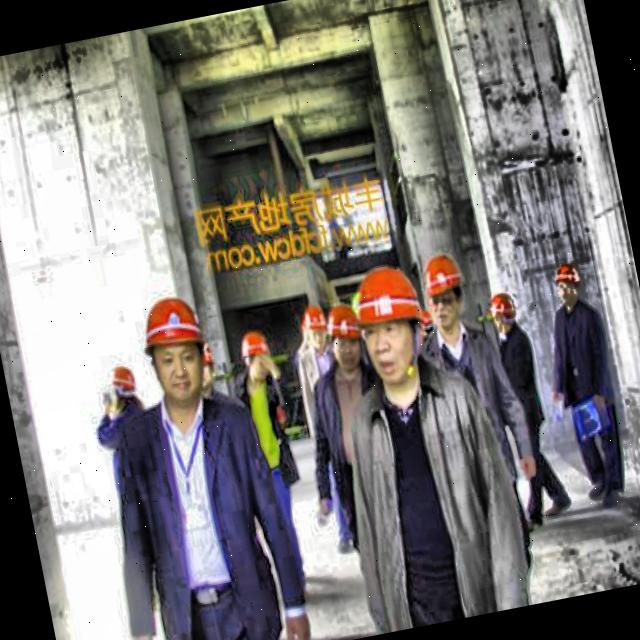helmet: (344, 252, 438, 399), (133, 287, 220, 414), (420, 247, 474, 337), (226, 326, 278, 390), (542, 256, 593, 317), (290, 298, 338, 362), (325, 298, 367, 368), (100, 362, 148, 418), (484, 288, 526, 341)
